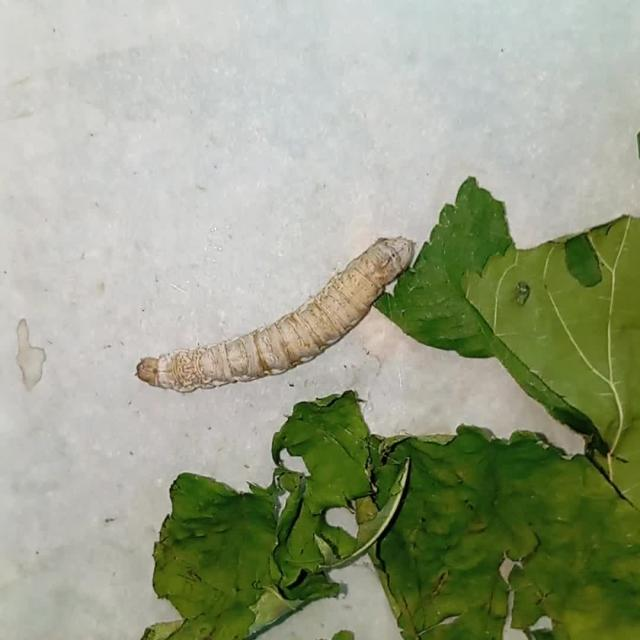Grasserie: (132, 221, 420, 404)
